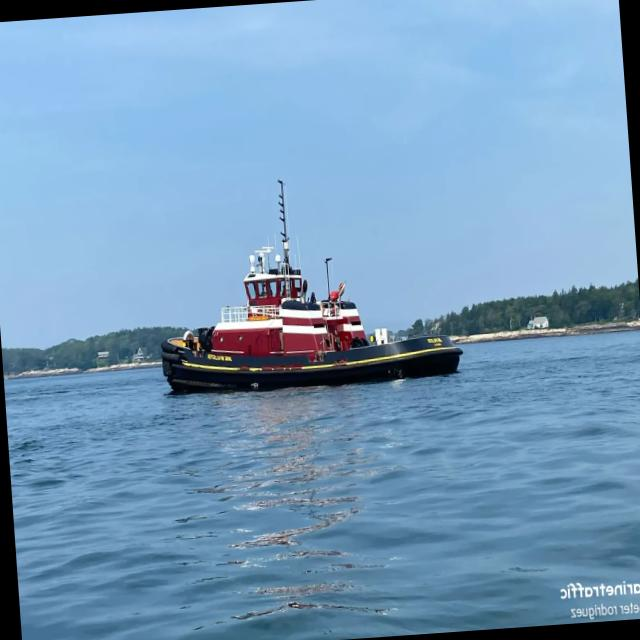Tug: (160, 181, 462, 393)
